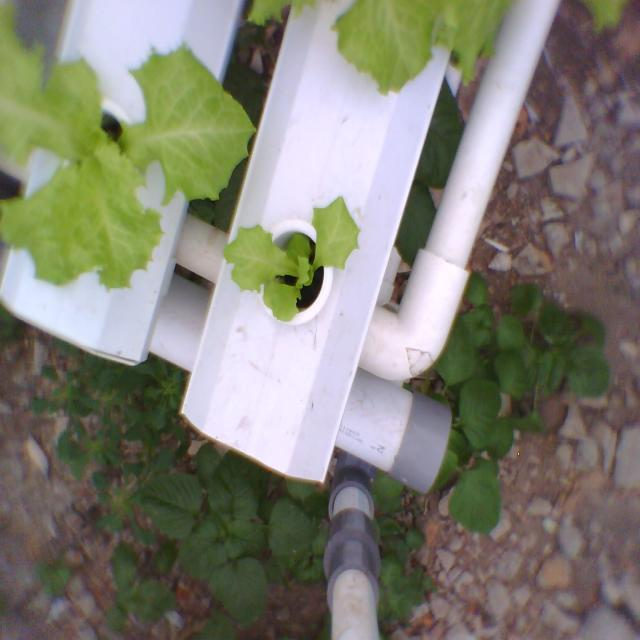FN: (0, 1, 260, 298), (219, 195, 364, 322)
